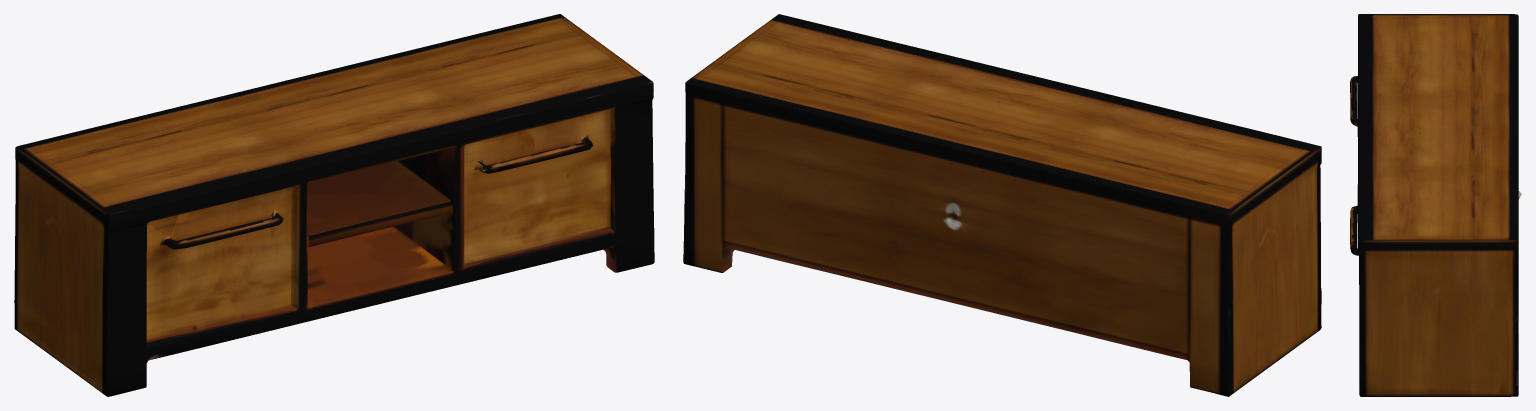
File: MeubleTV2_3D_textured.glb
3 views of the same model, side by side, from view 1: azimuth 30°, elevation 25°; view 2: azimuth 150°, elevation 25°; view 3: azimuth 270°, elevation 25° (orthographic). The views are drawn at different scales.
Visible parts, largest first — view 1: temp_mesh.ply; view 2: temp_mesh.ply; view 3: temp_mesh.ply.
Part boxes in pixels (x1,y1,x2,y2): temp_mesh.ply: [14, 14, 654, 396]; temp_mesh.ply: [683, 14, 1321, 396]; temp_mesh.ply: [1350, 14, 1521, 396].
Bounding box in the file's own units: 1.97 × 0.6329 × 0.6284.
Materials: 1 (1 with a texture image).
